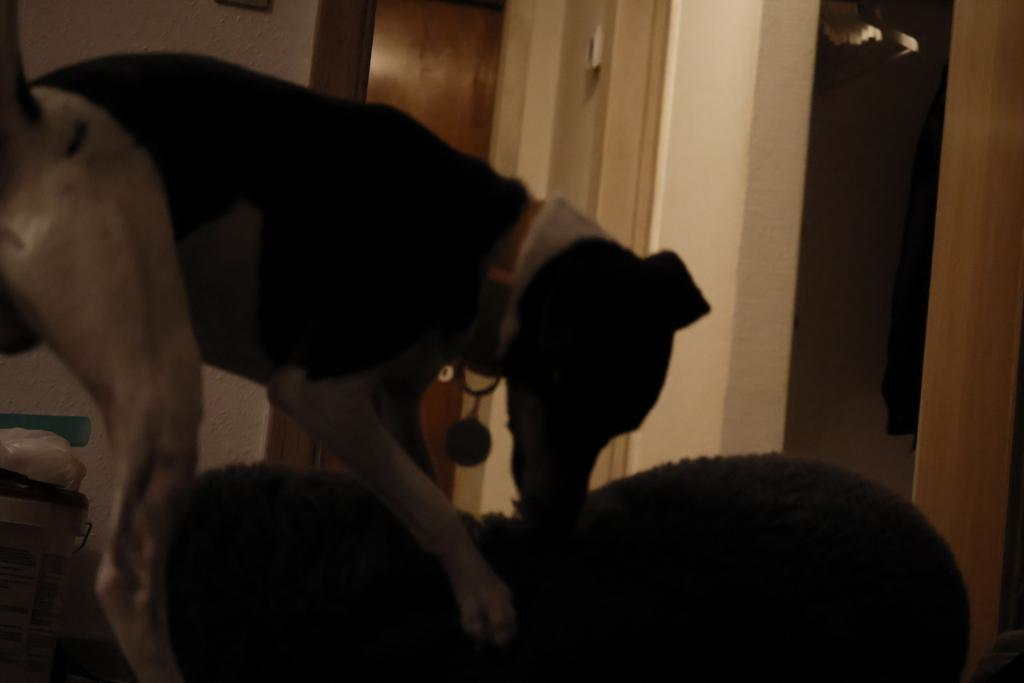Dog: (0, 0, 718, 683)
